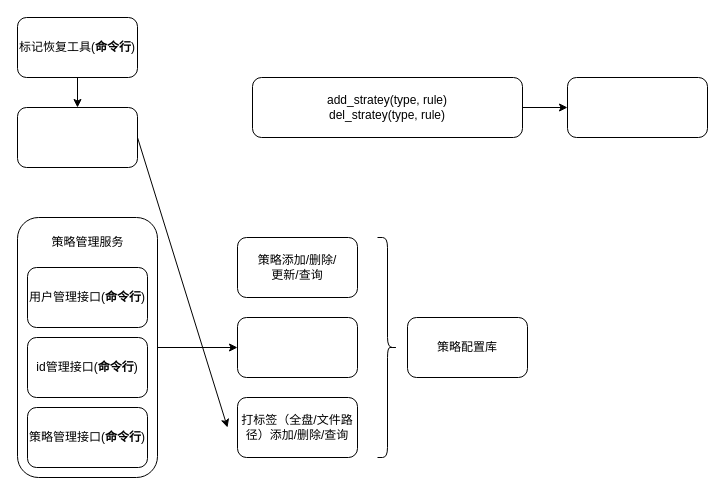
Image size: 725x495. Some labels were removed from this diagram. Each missing label, with the centre of its shape:
"id添加/删除/ 更新/查询" goes at [297,347].
"type：TAG、ID、RULE、USERMANAGER" goes at [637,107].
"标记恢复库( 动态库 )" goes at [77,137].
